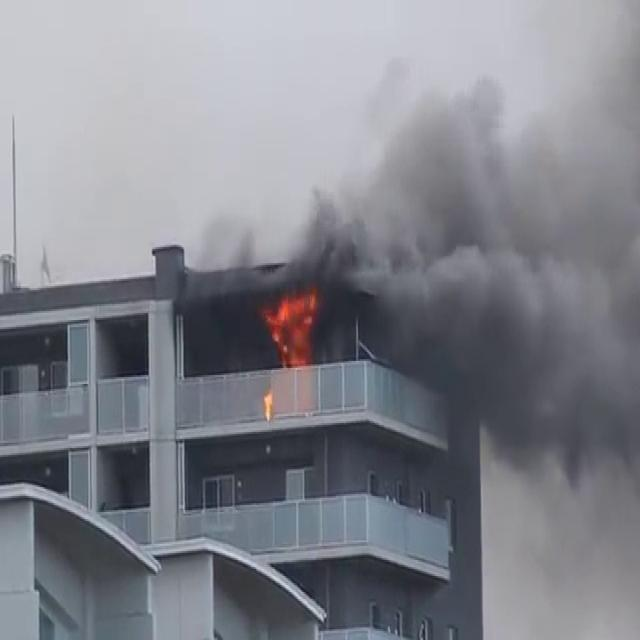Fire: (257, 280, 327, 366)
Smoke: (288, 4, 640, 550)
